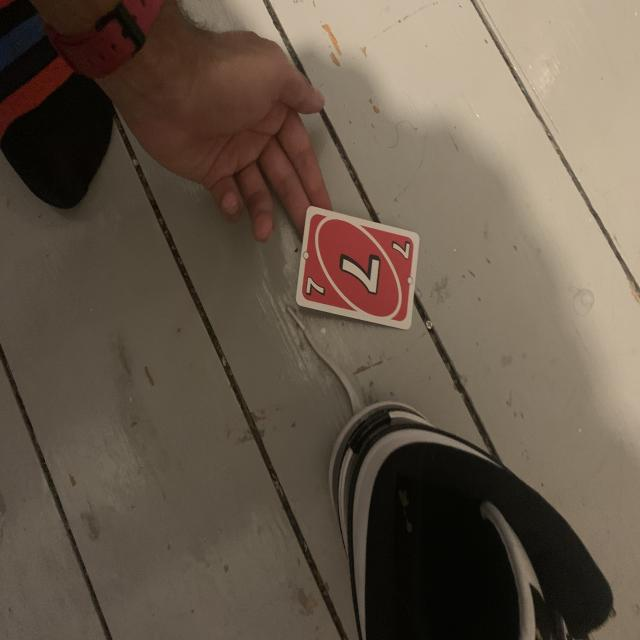lred-7: (302, 271, 332, 303)
